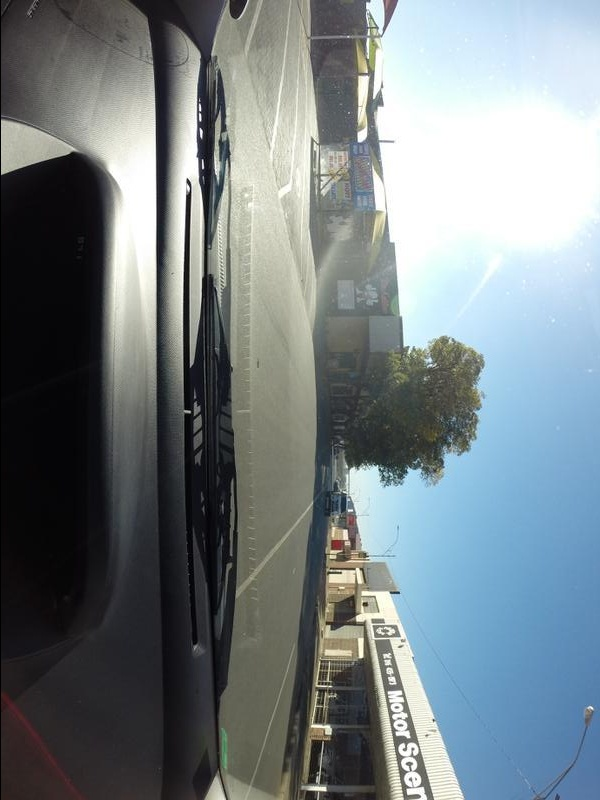pothole: (254, 359, 262, 372)
